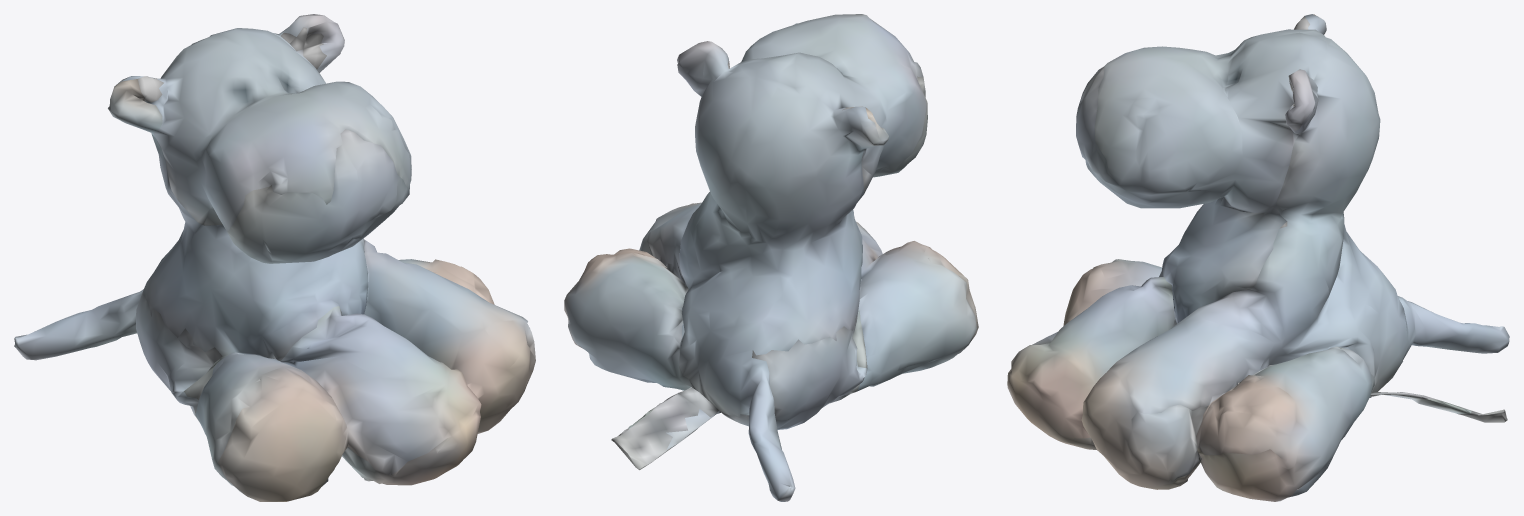
File: Ortho_Forward_Facing_3Q6J2oKJD92-medium.glb
3 views of the same model, side by side, from view 1: azimuth 30°, elevation 25°; view 2: azimuth 150°, elevation 25°; view 3: azimuth 270°, elevation 25° (orthographic). The views are drawn at different scales.
Parts seen in each view (by area): view 1: Ortho_Forward_Facing_3Q6J2oKJD92; view 2: Ortho_Forward_Facing_3Q6J2oKJD92; view 3: Ortho_Forward_Facing_3Q6J2oKJD92.
Boxes of the visible parts, <box> form: Ortho_Forward_Facing_3Q6J2oKJD92: <box>14,14,535,501</box>; Ortho_Forward_Facing_3Q6J2oKJD92: <box>564,14,978,501</box>; Ortho_Forward_Facing_3Q6J2oKJD92: <box>1007,14,1509,501</box>.
Bounding box in the file's own units: 0.1941 × 0.1958 × 0.2436.
1 material, 1 textured.
